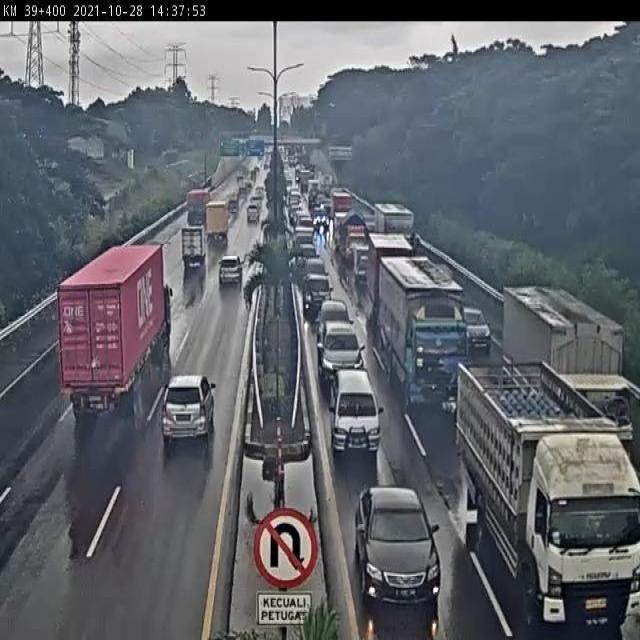big truck: (443, 347, 640, 629), (493, 264, 640, 465), (28, 239, 177, 436), (374, 251, 466, 416)
car: (350, 458, 454, 622), (159, 360, 224, 468), (314, 313, 374, 379), (314, 292, 359, 343), (207, 259, 249, 313), (305, 271, 339, 321), (453, 296, 482, 351), (302, 253, 332, 283)
small bus: (324, 366, 401, 454)
small truck: (168, 219, 214, 292), (175, 182, 213, 242), (183, 205, 229, 247)
